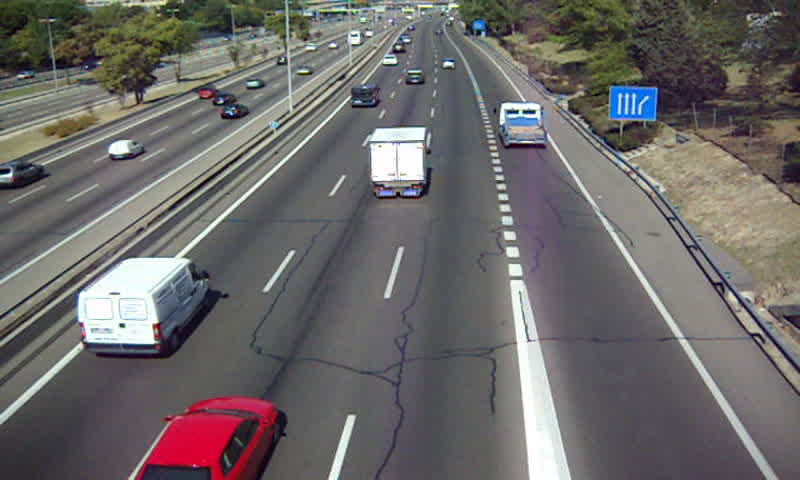car: (134, 397, 278, 480), (404, 68, 426, 86), (381, 53, 398, 68), (441, 58, 458, 70)
small-truck: (368, 127, 429, 200), (498, 102, 546, 147)
van: (80, 259, 209, 356), (349, 83, 380, 108)
